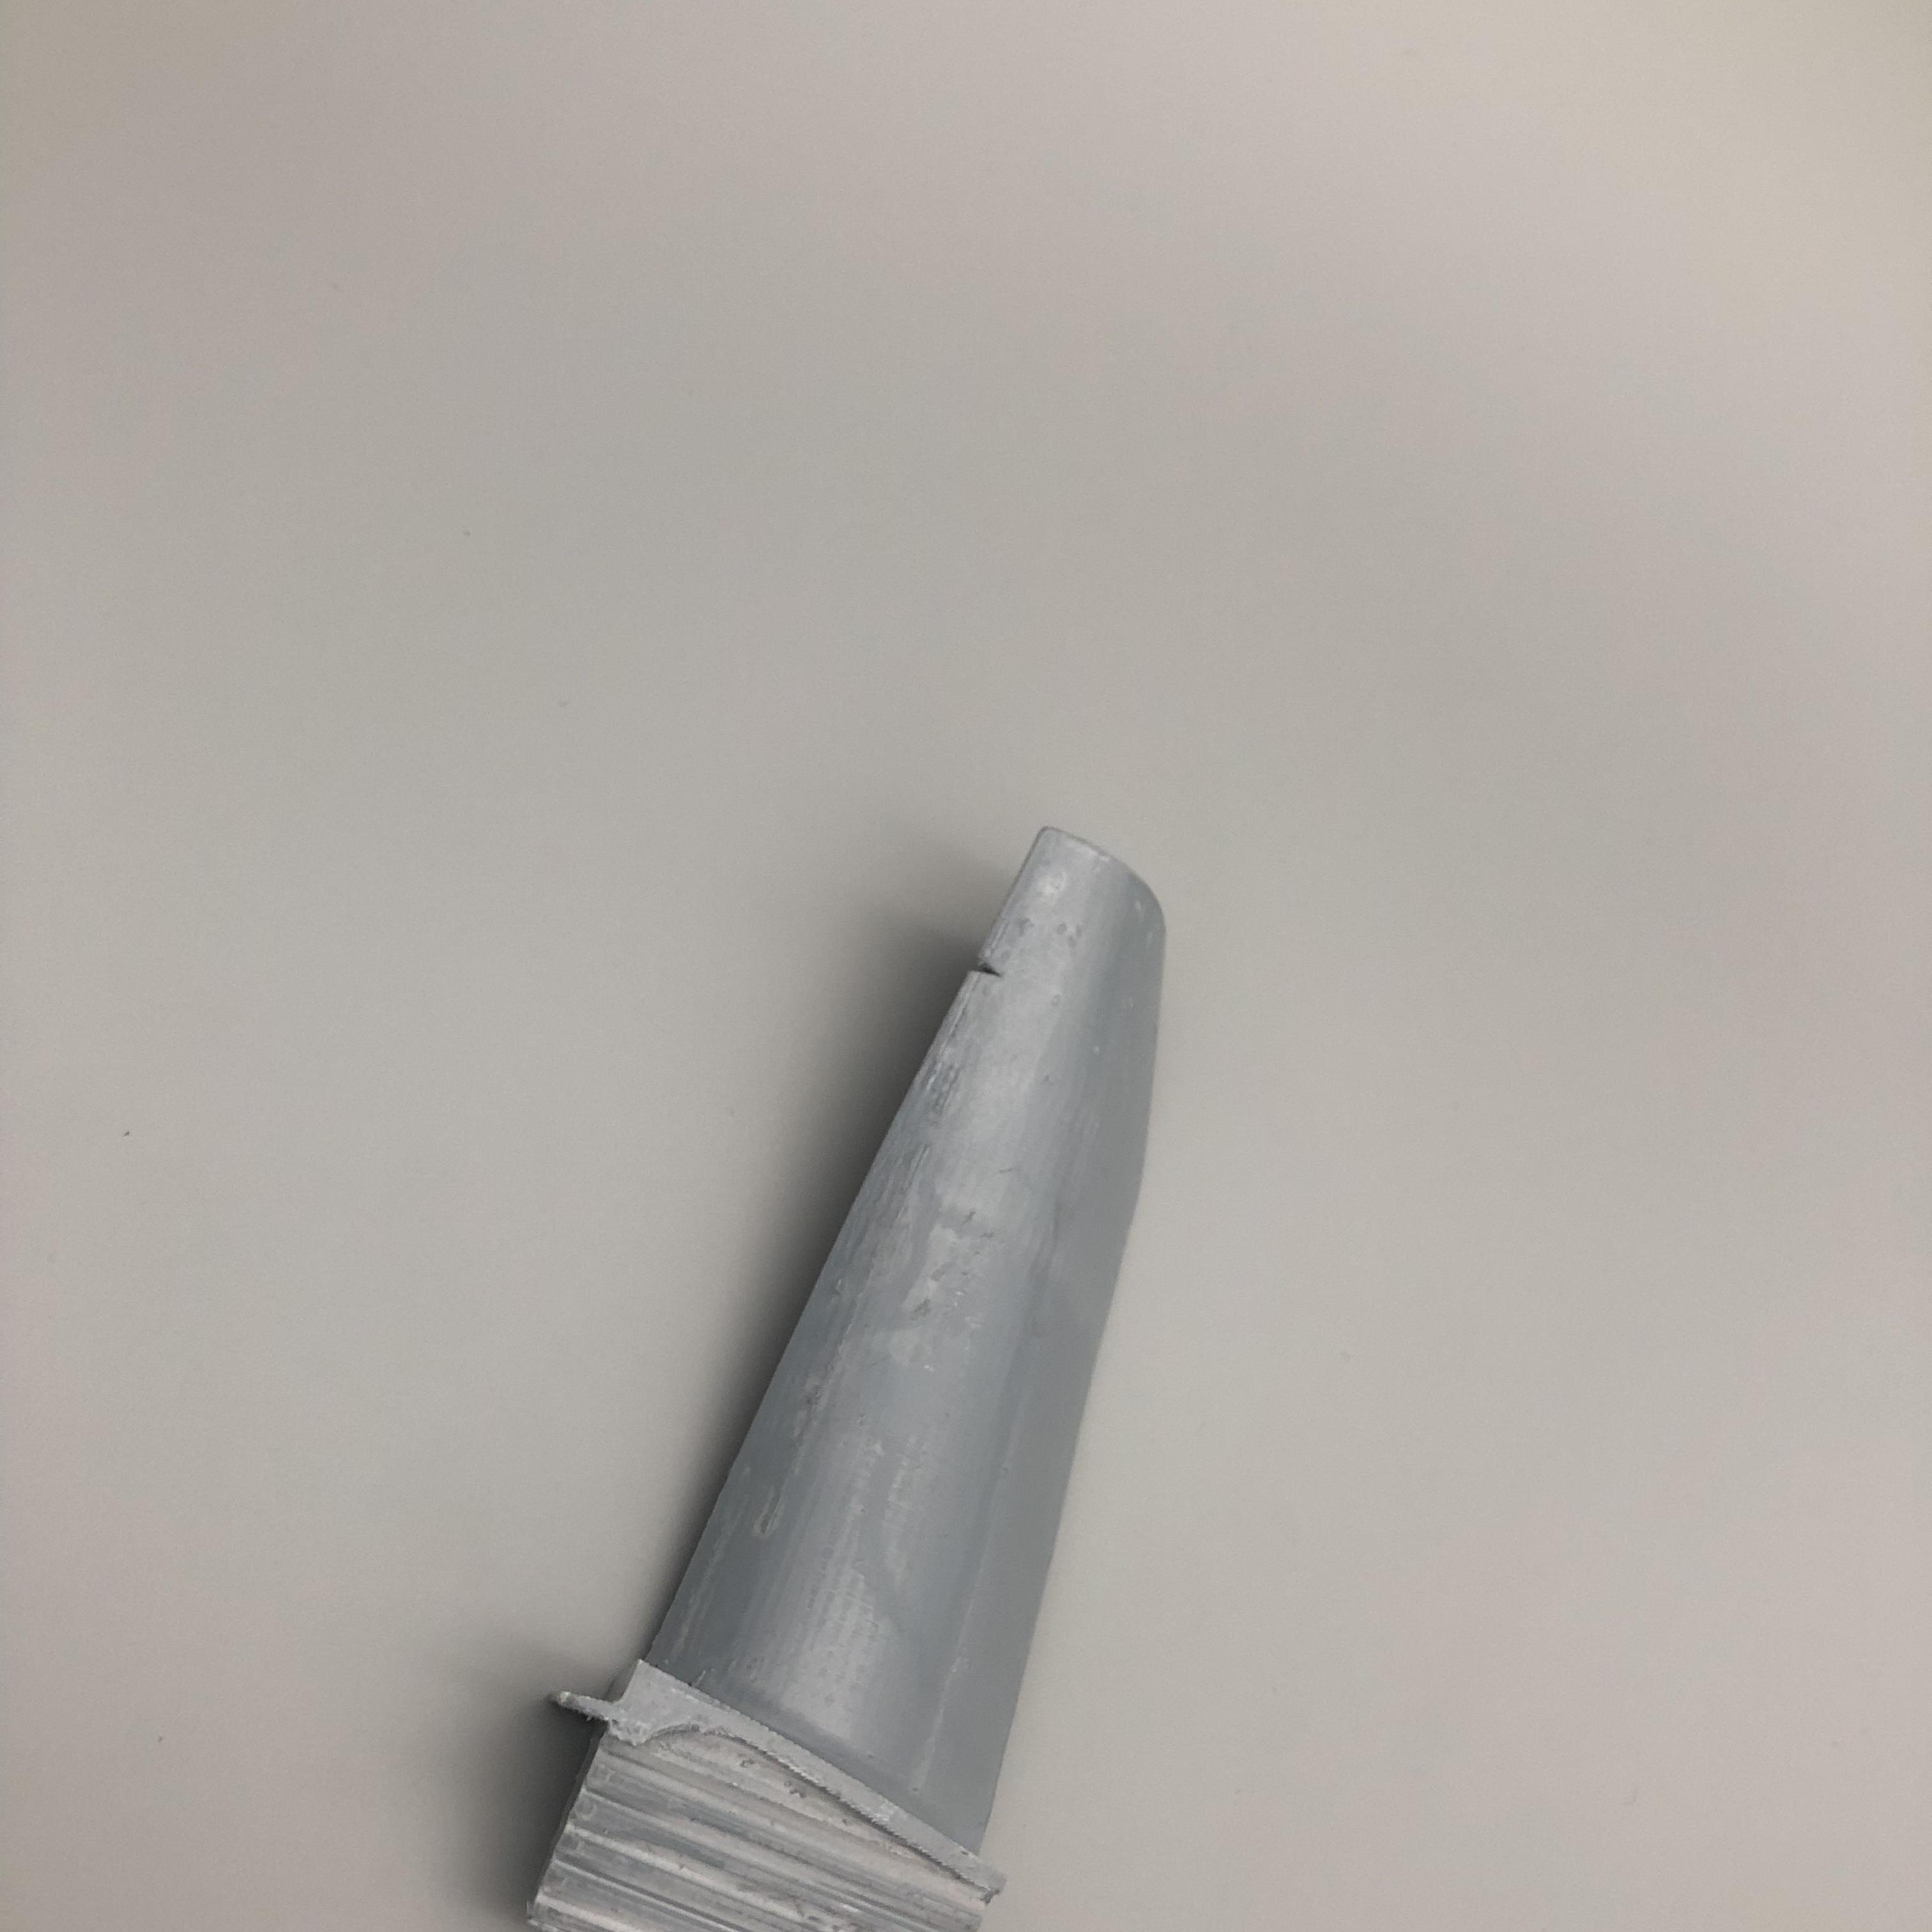groove: (959, 936, 1012, 984)
